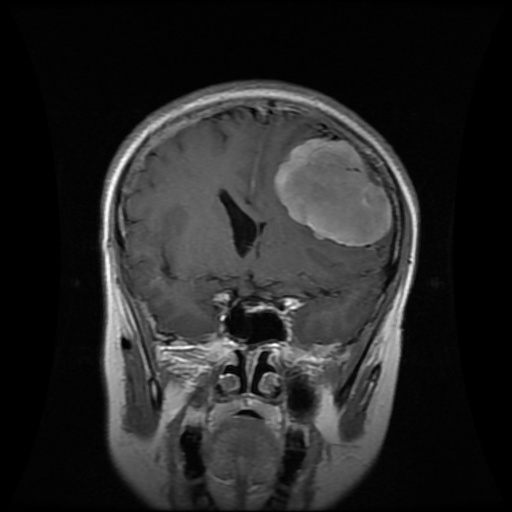meningioma: (275, 137, 391, 247)
